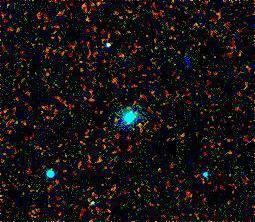star: (123, 110, 153, 140)
